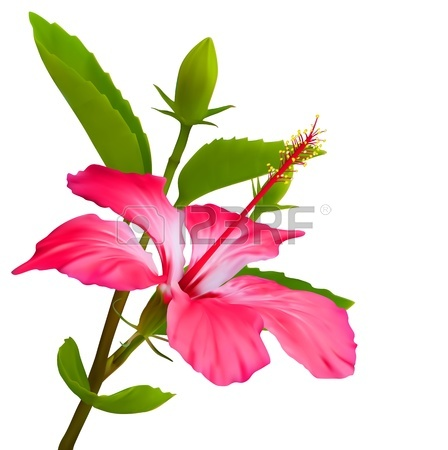Hibiscus: (21, 127, 374, 407), (158, 27, 238, 134)
